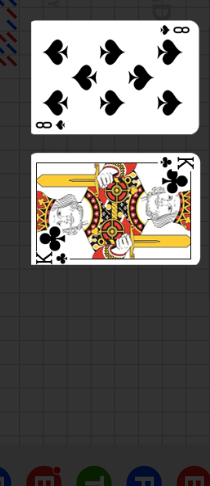8S: (34, 119, 68, 132)
KC: (34, 248, 72, 265)
